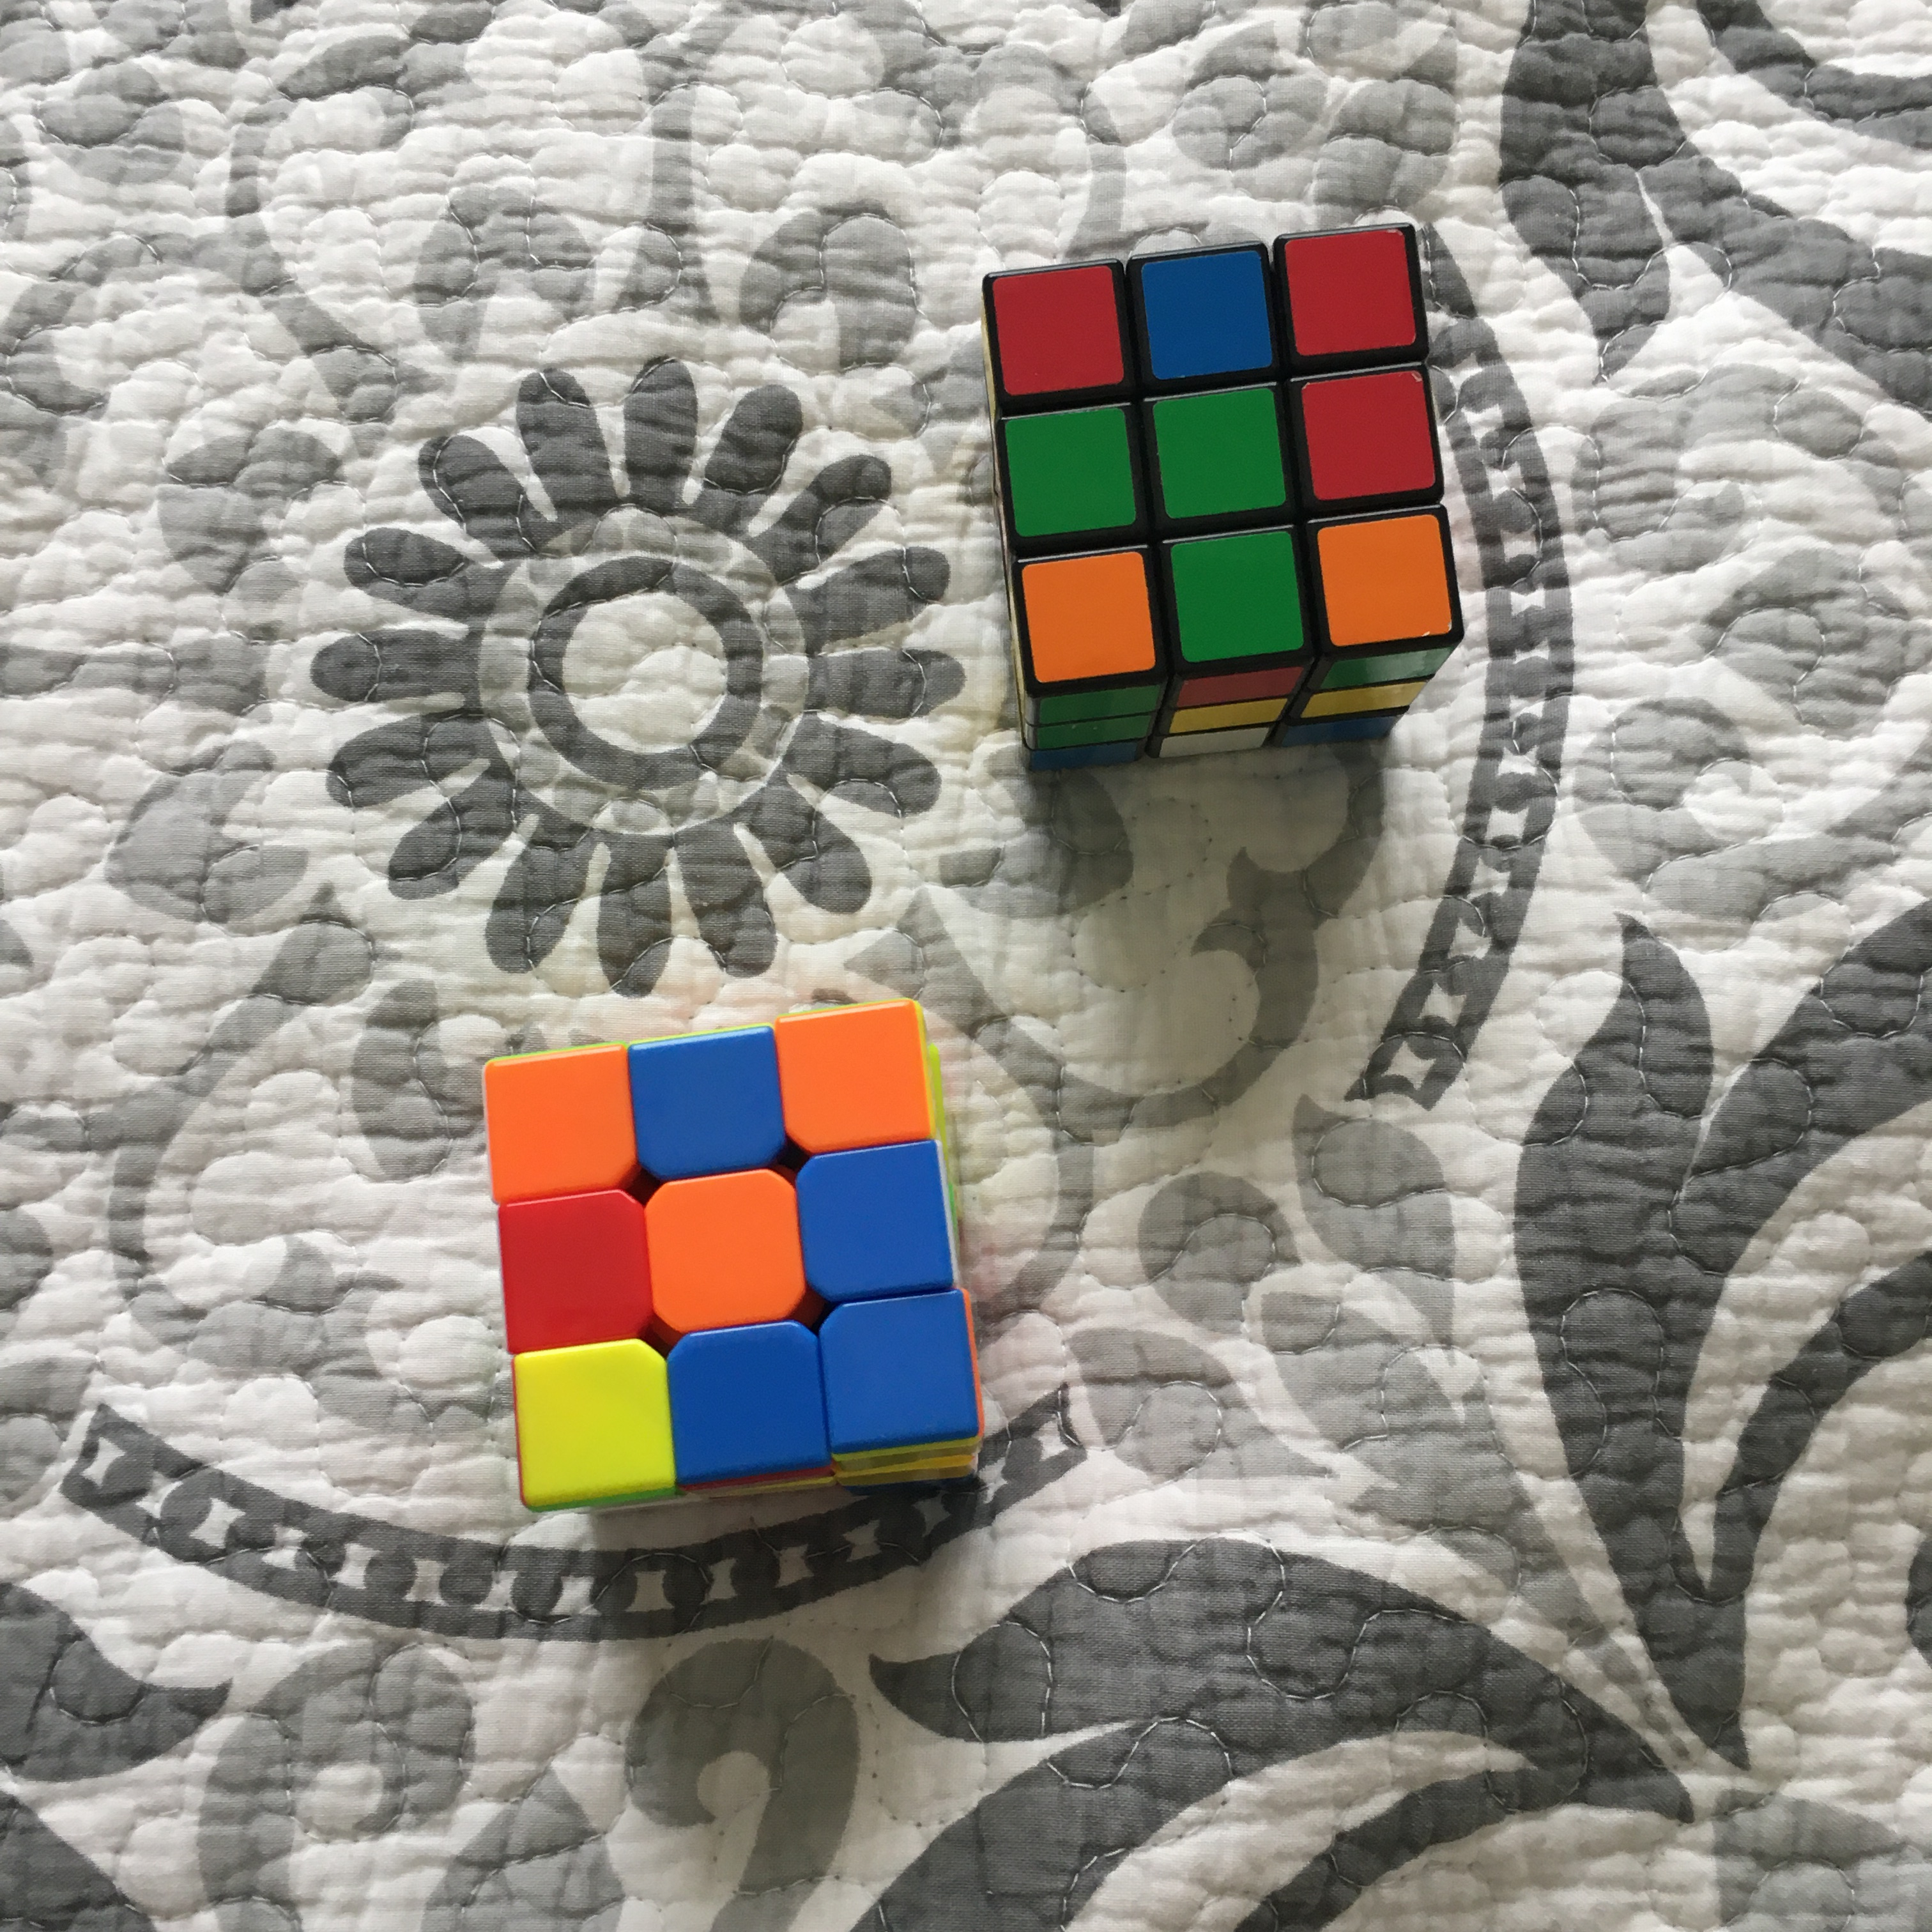face: (484, 1006, 992, 1505), (983, 222, 1459, 684)
